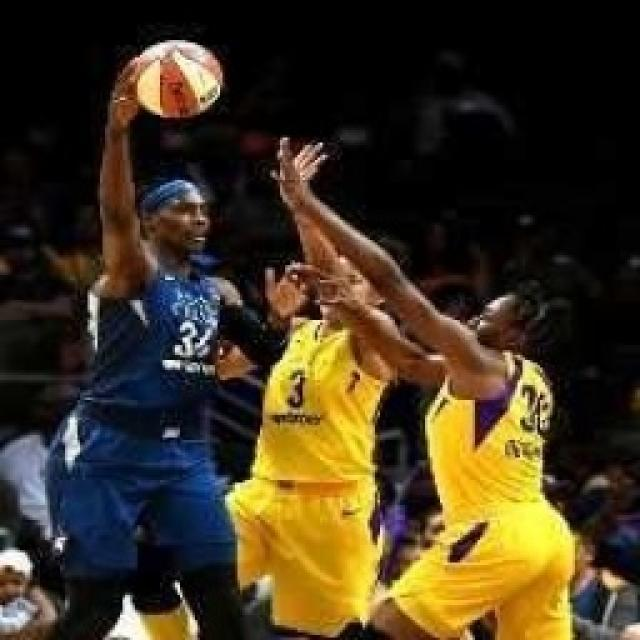rim: (126, 35, 228, 120)
